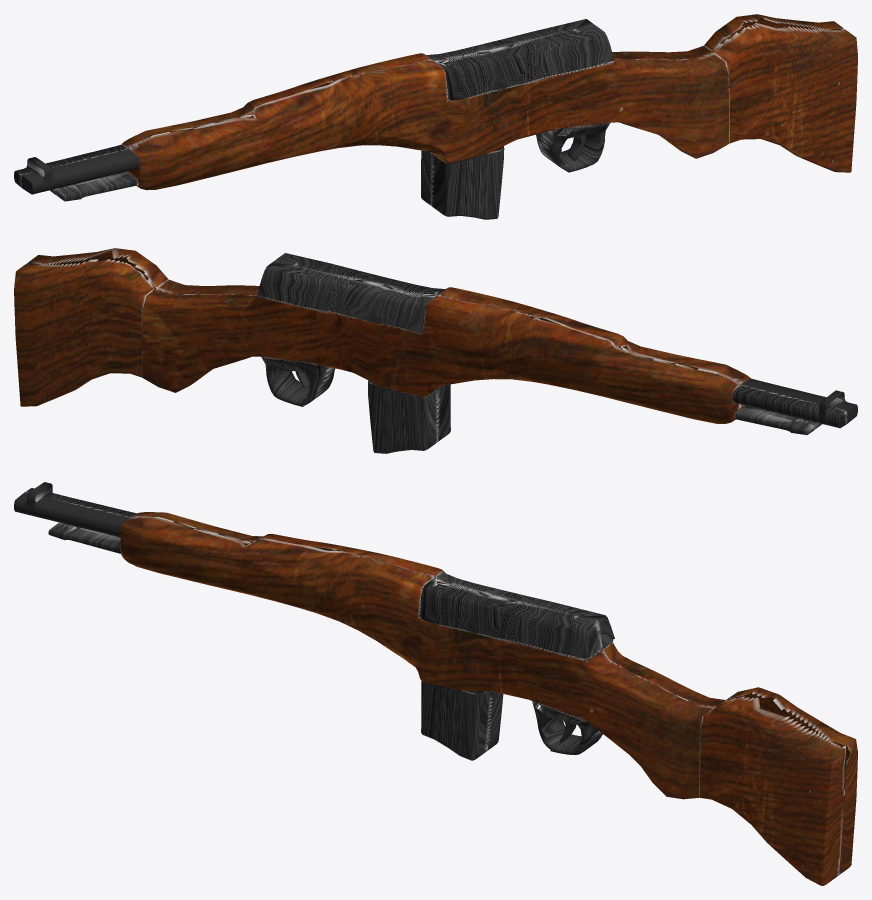
File: weapon.fbx
The picture shows the model from 3 angles, top to bottom: view 1: azimuth 30°, elevation 25°; view 2: azimuth 150°, elevation 25°; view 3: azimuth 330°, elevation 25°; orthographic projection.
Visible parts, largest first — view 1: weapon_model:weapon_model:pPlane4; view 2: weapon_model:weapon_model:pPlane4; view 3: weapon_model:weapon_model:pPlane4.
Boxes of the visible parts, x1=… form: weapon_model:weapon_model:pPlane4: x1=14, y1=14, x2=857, y2=219; weapon_model:weapon_model:pPlane4: x1=14, y1=248, x2=857, y2=453; weapon_model:weapon_model:pPlane4: x1=14, y1=482, x2=857, y2=885.
Bounding box in the file's own units: 12.09 × 2.86 × 0.764.
1 material, 1 textured.
